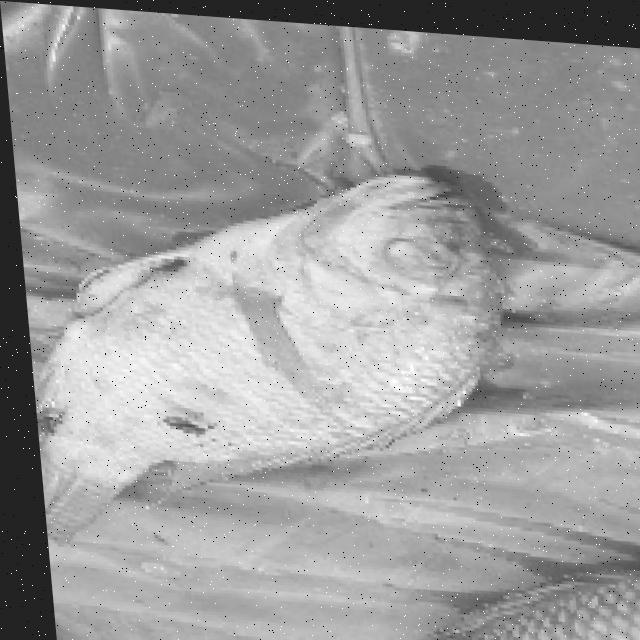Non-Fresh: (28, 158, 562, 490)
